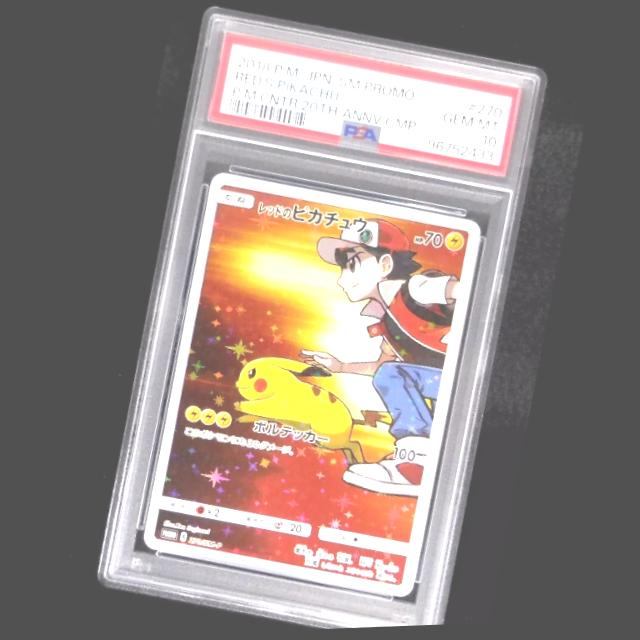card: (137, 171, 481, 601)
psa_label: (206, 33, 521, 180)
psa_slab: (89, 6, 548, 631)
